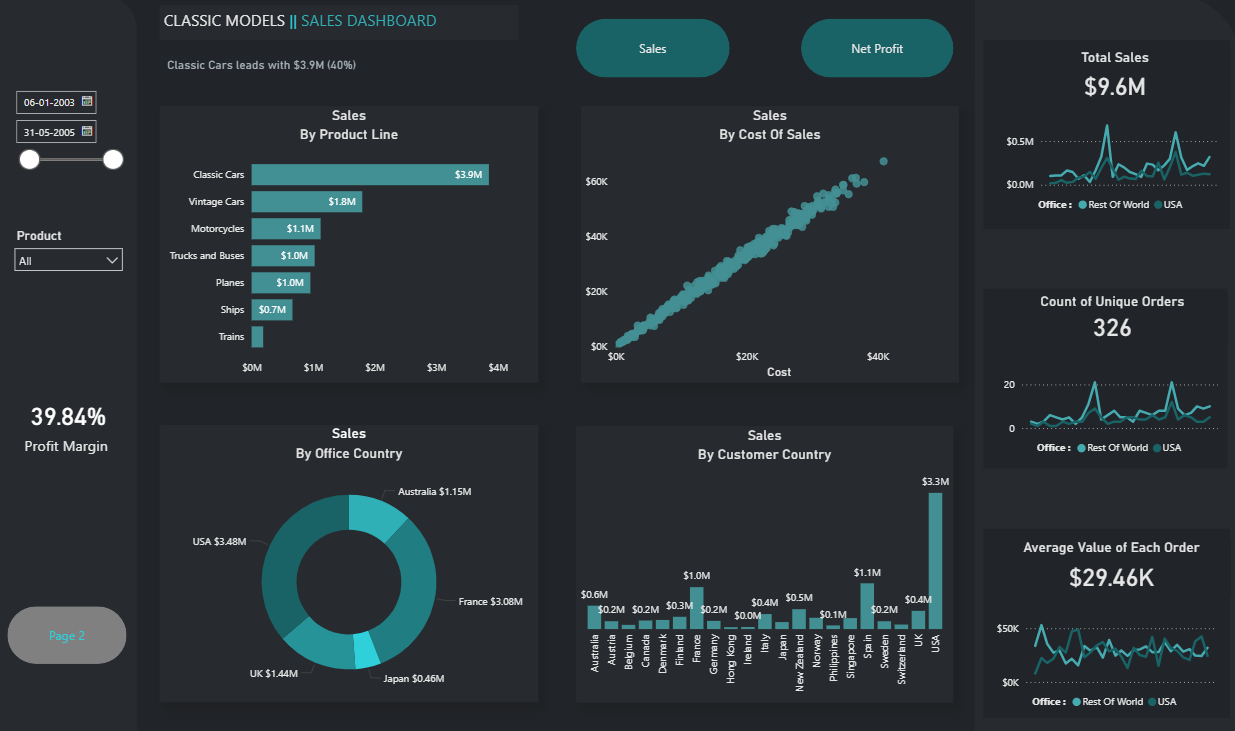

What the dashboard file says about the page in this screenshot:
{"tool":"powerbi","page":{"name":"Sales Performance Overview","canvas":[1500,900],"ordinal":0},"visuals":[{"type":"shape","box":[0,0,170,900.5],"z":0},{"type":"shape","box":[1180.3,0,320,900.5],"z":1000},{"type":"shape","box":[1191.6,54.7,297.5,228.3],"z":2000},{"type":"shape","box":[1191.6,354.6,294.3,217.1],"z":3000},{"type":"shape","box":[1191.6,643.2,297.5,228.3],"z":4000},{"type":"card","title":"Total Sales","fields":{"Values":["Sum(classicmodels sales_data_for_power_bi.sales_value)"]},"box":[1210.9,64.3,278.2,67.5],"z":5000},{"type":"card","title":"Count of Unique Orders","fields":{"Values":["Count(classicmodels sales_data_for_power_bi.ordernumber)"]},"box":[1207.7,358.6,278.2,59.5],"z":6000},{"type":"card","title":"Average Value of Each Order","fields":{"Values":["classicmodels sales_data_for_power_bi.Average Sales value Per Order"]},"box":[1201.2,656.1,287.8,70.8],"z":7000},{"type":"lineChart","fields":{"Y":["Sum(classicmodels sales_data_for_power_bi.sales_value)"],"Category":["classicmodels sales_data_for_power_bi.orderdate.Variation.Date Hierarchy.Year","classicmodels sales_data_for_power_bi.orderdate.Variation.Date Hierarchy.Quarter","classicmodels sales_data_for_power_bi.orderdate.Variation.Date Hierarchy.Month"],"Series":["classicmodels sales_data_for_power_bi.Office Grouped"]},"box":[1214.1,131.9,265.3,139.9],"z":8000},{"type":"lineChart","fields":{"Category":["classicmodels sales_data_for_power_bi.orderdate.Variation.Date Hierarchy.Year","classicmodels sales_data_for_power_bi.orderdate.Variation.Date Hierarchy.Quarter","classicmodels sales_data_for_power_bi.orderdate.Variation.Date Hierarchy.Month"],"Series":["classicmodels sales_data_for_power_bi.Office Grouped"],"Y":["Count(classicmodels sales_data_for_power_bi.ordernumber)"]},"box":[1210.9,429.4,268.5,135.1],"z":9000},{"type":"lineChart","fields":{"Category":["classicmodels sales_data_for_power_bi.orderdate.Variation.Date Hierarchy.Year","classicmodels sales_data_for_power_bi.orderdate.Variation.Date Hierarchy.Quarter","classicmodels sales_data_for_power_bi.orderdate.Variation.Date Hierarchy.Month"],"Series":["classicmodels sales_data_for_power_bi.Office Grouped"],"Y":["classicmodels sales_data_for_power_bi.Average Sales value Per Order"]},"box":[1201.2,738.1,275,133.5],"z":10000},{"type":"clusteredBarChart","fields":{"Y":["Table.Selected Metric"],"Category":["classicmodels sales_data_for_power_bi.productLine"]},"box":[197.6,134.8,456.9,333.3],"z":11000},{"type":"actionButton","box":[699.7,28.7,185.5,70.9],"z":12000},{"type":"actionButton","box":[971.2,28.7,184,70.9],"z":13000},{"type":"slicer","fields":{"Values":["Table.Numberid"]},"box":[363.2,531.7,257.7,160.3],"z":14000},{"type":"scatterChart","fields":{"Y":["Table.Selected Metric"],"X":["Sum(classicmodels sales_data_for_power_bi.cost_of_sales)"],"Category":["classicmodels sales_data_for_power_bi.ordernumber"]},"box":[705.8,134.8,456,333.3],"z":15000},{"type":"donutChart","fields":{"Category":["classicmodels sales_data_for_power_bi.office_country"],"Y":["Table.Selected Metric"]},"box":[197.6,518.8,456.9,334.8],"z":16000},{"type":"columnChart","fields":{"Category":["classicmodels sales_data_for_power_bi.customer_country"],"Y":["Table.Selected Metric"]},"box":[699.7,520.3,455.4,333.3],"z":17000},{"type":"textbox","box":[197.6,12.1,432.8,42.2],"z":18000},{"type":"actionButton","box":[13.6,737.4,144.1,69.7],"z":19000},{"type":"slicer","fields":{"Values":["classicmodels sales_data_for_power_bi.orderdate"]},"box":[12.1,106,150.3,151.9],"z":20000},{"type":"slicer","fields":{"Values":["classicmodels sales_data_for_power_bi.productName"]},"box":[12.1,275.4,150.8,151],"z":21000},{"type":"card","fields":{"Values":["Table.Profit Margin %"]},"box":[12.4,443.9,150.3,150.3],"z":22000},{"type":"card","fields":{"Values":["Table.Dynamic Insight"]},"box":[197.6,64.8,245.8,42.2],"z":23000}]}

Visuals, with their boxes in screenshot pixels (x1, y1, x2, y2), scaled from the page's 1500x900 canvas onto the 1235x731 screenshot:
shape: pyautogui.locateOnScreen(0, 0, 140, 730)
shape: pyautogui.locateOnScreen(972, 0, 1234, 730)
shape: pyautogui.locateOnScreen(981, 44, 1226, 230)
shape: pyautogui.locateOnScreen(981, 288, 1223, 464)
shape: pyautogui.locateOnScreen(981, 522, 1226, 708)
"Total Sales" card: pyautogui.locateOnScreen(997, 52, 1226, 107)
"Count of Unique Orders" card: pyautogui.locateOnScreen(994, 291, 1223, 340)
"Average Value of Each Order" card: pyautogui.locateOnScreen(989, 533, 1226, 590)
lineChart - Sum(classicmodels sales_data_for_power_bi.sales_value) x classicmodels sales_data_for_power_bi.orderdate.Variation.Date Hierarchy.Year: pyautogui.locateOnScreen(1000, 107, 1218, 221)
lineChart - classicmodels sales_data_for_power_bi.orderdate.Variation.Date Hierarchy.Year x classicmodels sales_data_for_power_bi.orderdate.Variation.Date Hierarchy.Quarter: pyautogui.locateOnScreen(997, 349, 1218, 458)
lineChart - classicmodels sales_data_for_power_bi.orderdate.Variation.Date Hierarchy.Year x classicmodels sales_data_for_power_bi.orderdate.Variation.Date Hierarchy.Quarter: pyautogui.locateOnScreen(989, 600, 1215, 708)
clusteredBarChart - Table.Selected Metric x classicmodels sales_data_for_power_bi.productLine: pyautogui.locateOnScreen(163, 109, 539, 380)
actionButton: pyautogui.locateOnScreen(576, 23, 729, 81)
actionButton: pyautogui.locateOnScreen(800, 23, 951, 81)
slicer - Table.Numberid: pyautogui.locateOnScreen(299, 432, 511, 562)
scatterChart - Table.Selected Metric x Sum(classicmodels sales_data_for_power_bi.cost_of_sales): pyautogui.locateOnScreen(581, 109, 957, 380)
donutChart - classicmodels sales_data_for_power_bi.office_country x Table.Selected Metric: pyautogui.locateOnScreen(163, 421, 539, 693)
columnChart - classicmodels sales_data_for_power_bi.customer_country x Table.Selected Metric: pyautogui.locateOnScreen(576, 423, 951, 693)
textbox: pyautogui.locateOnScreen(163, 10, 519, 44)
actionButton: pyautogui.locateOnScreen(11, 599, 130, 656)
slicer - classicmodels sales_data_for_power_bi.orderdate: pyautogui.locateOnScreen(10, 86, 134, 209)
slicer - classicmodels sales_data_for_power_bi.productName: pyautogui.locateOnScreen(10, 224, 134, 346)
card - Table.Profit Margin %: pyautogui.locateOnScreen(10, 361, 134, 483)
card - Table.Dynamic Insight: pyautogui.locateOnScreen(163, 53, 365, 87)
